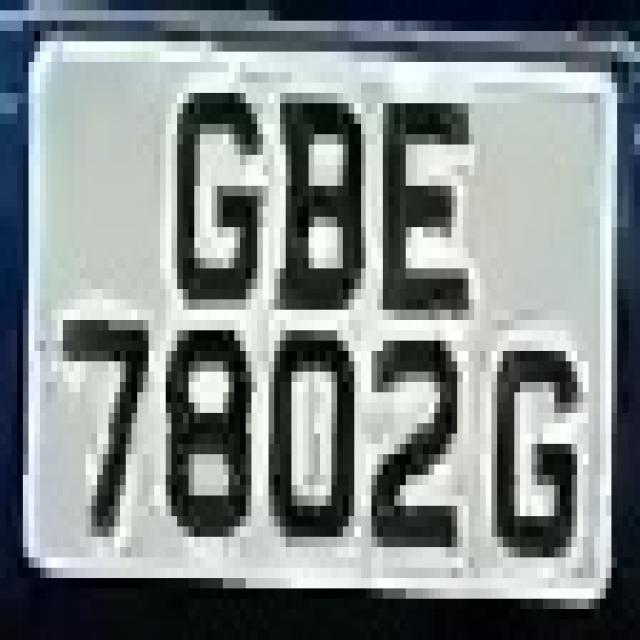0: (257, 320, 354, 557)
2: (354, 299, 457, 609)
7: (46, 248, 154, 526)
8: (160, 299, 263, 578)
B: (263, 62, 377, 320)
E: (366, 83, 468, 330)
G: (469, 320, 594, 557), (166, 52, 263, 299)
